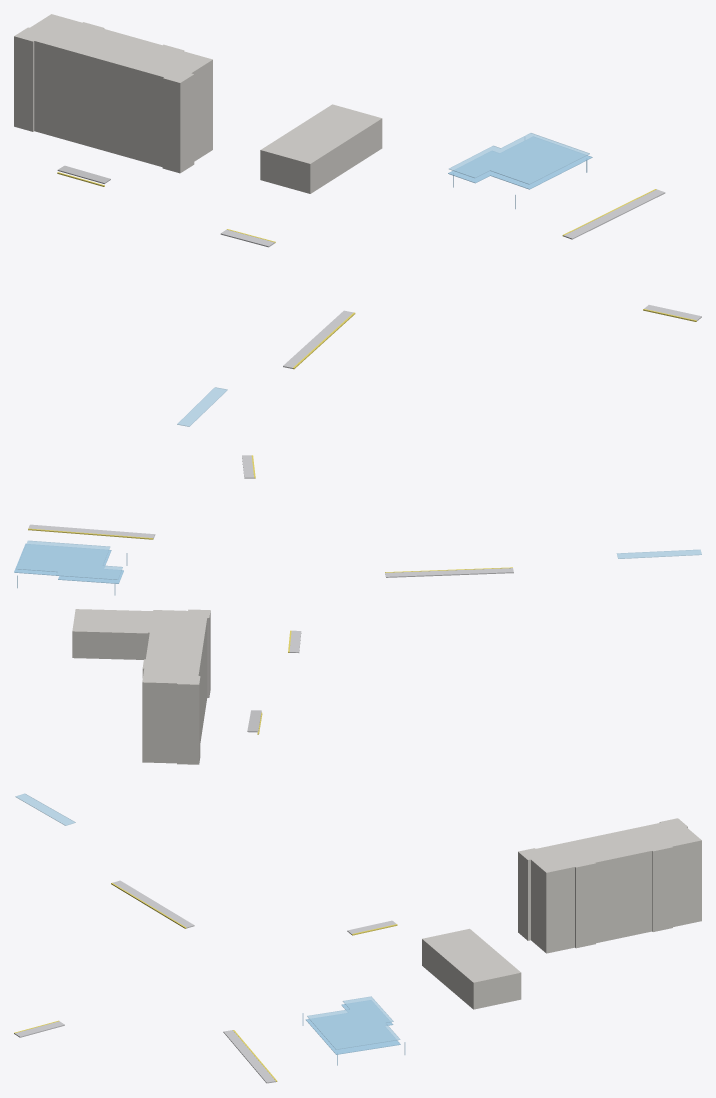
Rendered from 8588991-bern-breitfeld.glb.
3 renders of one model, top to bottom at view 1: azimuth 30°, elevation 25°; view 2: azimuth 150°, elevation 25°; view 3: azimuth 270°, elevation 25°, orthographic. The views are drawn at different scales.
Parts seen in each view (by area): view 1: building_part@x, roof@0, canopy@0, platform_body@0, boarding_edge@0; view 2: building_part@x, roof@0, canopy@0, platform_body@0, boarding_edge@0; view 3: building_part@x, roof@0, canopy@0, platform_body@0, boarding_edge@0.
Boxes of the visible parts, x1,y1,x2,y2 form: building_part@x: (14,14,382,193); roof@0: (177,133,589,426); canopy@0: (448,137,592,209); platform_body@0: (220,189,701,368); boarding_edge@0: (57,172,696,369); building_part@x: (72,609,210,764); roof@0: (16,540,701,579); canopy@0: (14,543,127,595); platform_body@0: (28,455,513,652); boarding_edge@0: (28,455,512,734); building_part@x: (422,818,701,1009); roof@0: (15,793,400,1049); canopy@0: (302,1000,405,1065); platform_body@0: (14,880,396,1083); boarding_edge@0: (14,883,397,1081).
Size of the model in its own units: 152 by 21.85 by 162.
